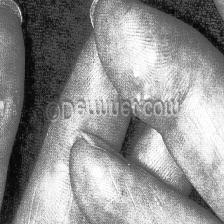Unclassified: (190, 94, 224, 176), (34, 171, 78, 224), (136, 139, 182, 186), (122, 44, 173, 86), (0, 49, 10, 211), (88, 164, 128, 203), (131, 209, 201, 224)
